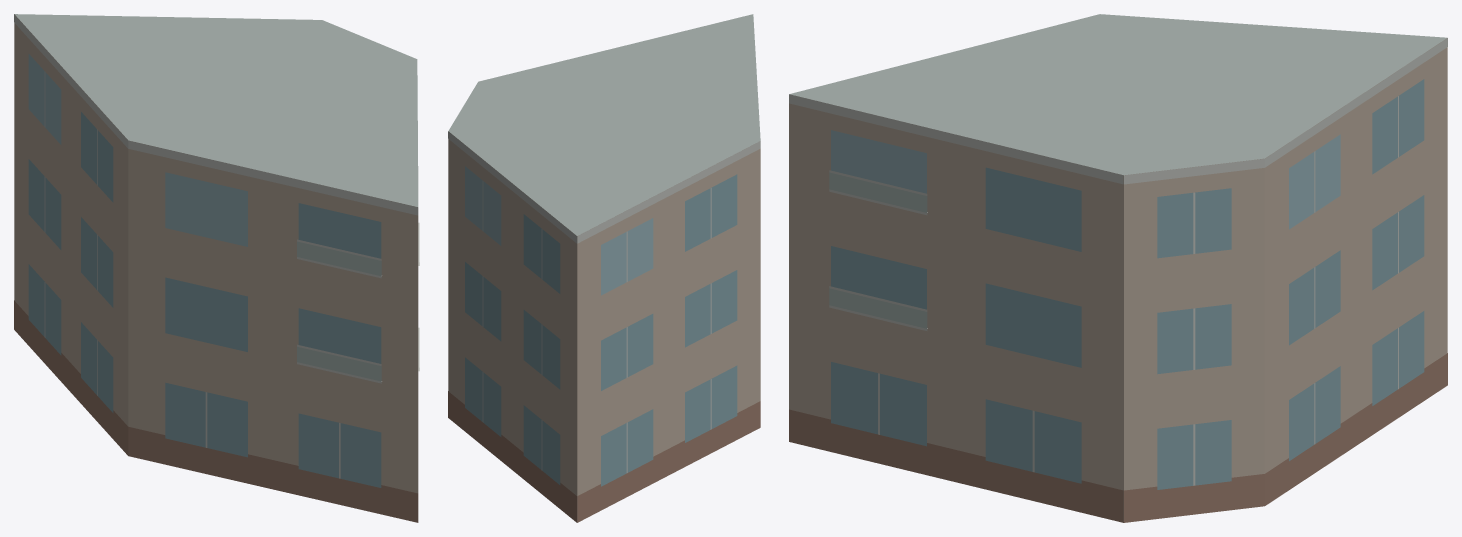
File: survey-upis-32886331.glb
3 renders of one model, left to right at view 1: azimuth 30°, elevation 25°; view 2: azimuth 150°, elevation 25°; view 3: azimuth 270°, elevation 25°, orthographic. The views are drawn at different scales.
Visible parts, largest first — view 1: survey-upis-32886331.tmp; view 2: survey-upis-32886331.tmp; view 3: survey-upis-32886331.tmp.
Boxes of the visible parts, x1,y1,x2,y2 form: survey-upis-32886331.tmp: (14, 14, 419, 522); survey-upis-32886331.tmp: (448, 14, 760, 522); survey-upis-32886331.tmp: (789, 14, 1447, 522).
Size of the model in its own units: 9.11 by 9.15 by 15.72.
